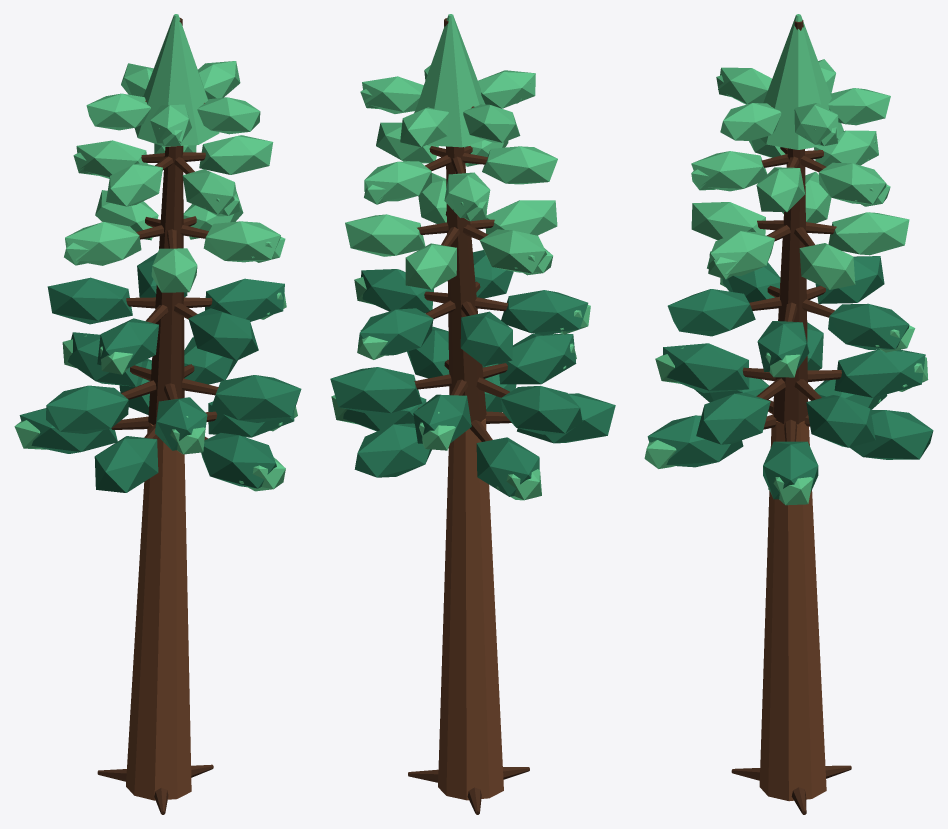
File: harvest_tree_intact.glb
3 renders of one model, left to right at view 1: azimuth 30°, elevation 25°; view 2: azimuth 150°, elevation 25°; view 3: azimuth 270°, elevation 25°, orthographic.
Parts seen in each view (by area): view 1: Trunk_Lower, Trunk_Upper, Leader_Needles, Needles_2_5, Needles_2_3, Needles_3_2, Needles_1_5, Needles_1_4, Needles_3_4, Needles_4_4, Needles_3_5, Needles_4_2 (+23 smaller); view 2: Trunk_Lower, Leader_Needles, Trunk_Upper, Needles_2_1, Needles_2_3, Needles_1_2, Needles_3_3, Needles_2_4, Needles_4_5, Needles_1_3, Needles_3_1, Needles_5_2 (+22 smaller); view 3: Trunk_Lower, Leader_Needles, Trunk_Upper, Needles_2_2, Needles_2_4, Needles_3_4, Needles_2_5, Needles_3_1, Needles_1_2, Needles_2_1, Needles_4_1, Needles_1_5 (+22 smaller).
Boxes of the visible parts, <box> form: Trunk_Lower: <box>126,423,191,800</box>; Trunk_Upper: <box>148,18,184,425</box>; Leader_Needles: <box>134,14,219,146</box>; Needles_2_5: <box>211,375,301,422</box>; Needles_2_3: <box>46,385,128,433</box>; Needles_3_2: <box>47,277,132,324</box>; Needles_1_5: <box>201,433,276,488</box>; Needles_1_4: <box>94,436,158,492</box>; Needles_3_4: <box>188,308,258,360</box>; Needles_4_4: <box>203,221,280,262</box>; Needles_3_5: <box>205,278,284,321</box>; Needles_4_2: <box>65,222,141,265</box>; Trunk_Lower: <box>438,418,503,800</box>; Leader_Needles: <box>414,14,485,147</box>; Trunk_Upper: <box>444,18,486,421</box>; Needles_2_1: <box>330,367,422,415</box>; Needles_2_3: <box>500,386,582,434</box>; Needles_1_2: <box>354,423,431,477</box>; Needles_3_3: <box>501,290,588,335</box>; Needles_2_4: <box>498,334,576,384</box>; Needles_4_5: <box>345,214,425,256</box>; Needles_1_3: <box>476,437,539,496</box>; Needles_3_1: <box>358,308,433,355</box>; Needles_5_2: <box>482,146,557,184</box>; Trunk_Lower: <box>759,421,826,801</box>; Leader_Needles: <box>760,14,843,149</box>; Trunk_Upper: <box>773,20,808,424</box>; Needles_2_2: <box>834,349,925,397</box>; Needles_2_4: <box>663,343,749,393</box>; Needles_3_4: <box>667,289,755,336</box>; Needles_2_5: <box>696,392,770,444</box>; Needles_3_1: <box>828,303,909,349</box>; Needles_1_2: <box>850,410,933,459</box>; Needles_2_1: <box>806,395,875,447</box>; Needles_4_1: <box>828,212,909,255</box>; Needles_1_5: <box>647,415,743,467</box>.
Bounding box in the file's own units: 5.24 × 15.52 × 5.2.
